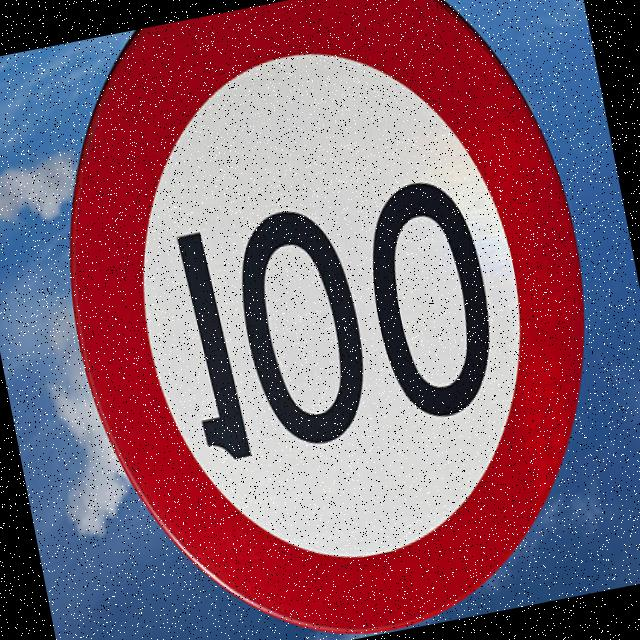speed_limit_100: (19, 0, 640, 640)
